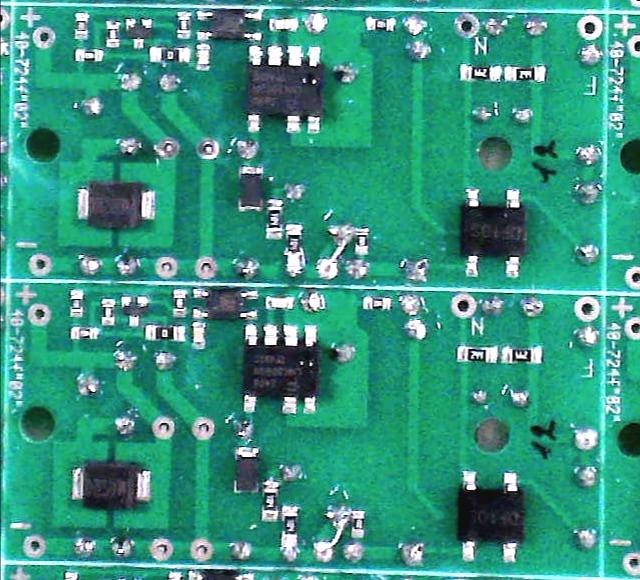chip-capacitor: (192, 322, 205, 349), (269, 18, 297, 30), (265, 297, 293, 309), (197, 46, 210, 69)
chip-resistor: (460, 64, 501, 82), (504, 65, 545, 82), (262, 481, 278, 522), (266, 199, 282, 239), (502, 348, 542, 363), (150, 47, 189, 62), (281, 507, 296, 546), (457, 347, 495, 362), (146, 326, 183, 341), (286, 223, 301, 257), (177, 11, 191, 38), (366, 17, 394, 30), (105, 21, 119, 47), (74, 14, 88, 40), (75, 49, 103, 62), (362, 297, 390, 310), (70, 327, 97, 340), (101, 299, 114, 326), (351, 511, 364, 538), (355, 228, 368, 254), (70, 290, 82, 317), (173, 290, 185, 317)
diode: (71, 462, 153, 508), (76, 181, 156, 227), (234, 447, 258, 494), (239, 166, 262, 211)
ic: (243, 323, 321, 416), (248, 46, 320, 133), (457, 470, 523, 562), (461, 187, 526, 279), (190, 287, 259, 321), (197, 10, 263, 42)
transistor: (125, 18, 151, 49), (121, 296, 147, 326)
